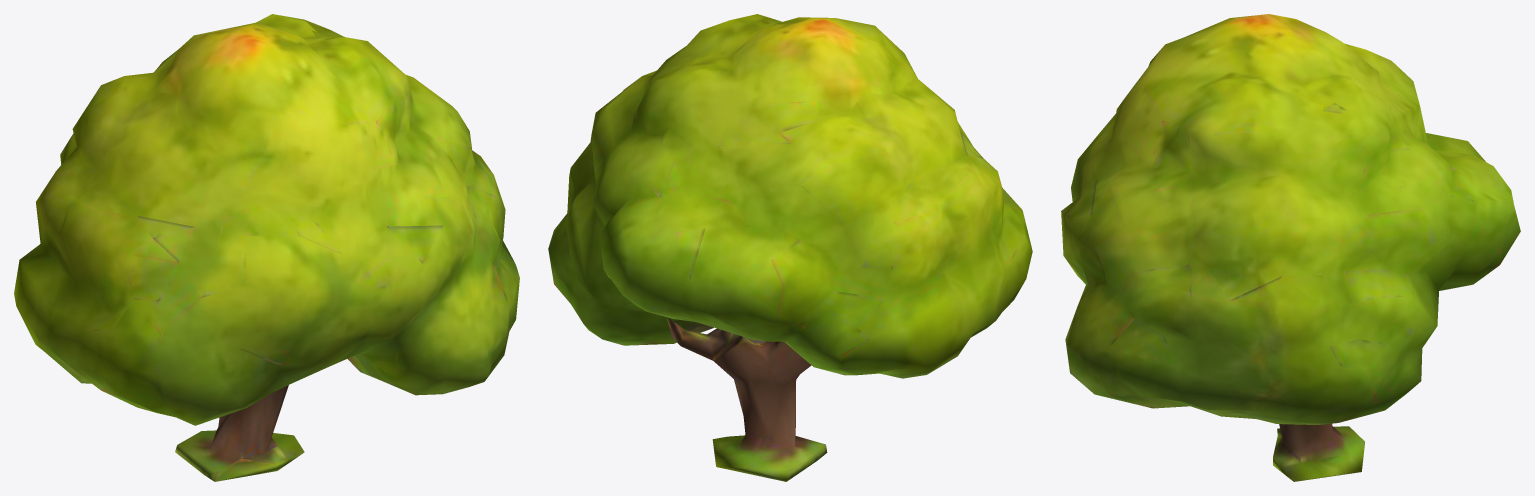
Rendered from tree1.fbx.
3 renders of one model, left to right at view 1: azimuth 30°, elevation 25°; view 2: azimuth 150°, elevation 25°; view 3: azimuth 270°, elevation 25°, orthographic. The views are drawn at different scales.
Visible parts, largest first — view 1: Mesh_0.001; view 2: Mesh_0.001; view 3: Mesh_0.001.
Part boxes in pixels (<box>): Mesh_0.001: <box>14,14,519,481</box>; Mesh_0.001: <box>548,14,1032,481</box>; Mesh_0.001: <box>1061,14,1520,481</box>.
Bounding box in the file's own units: 3516 × 3446 × 3351.
